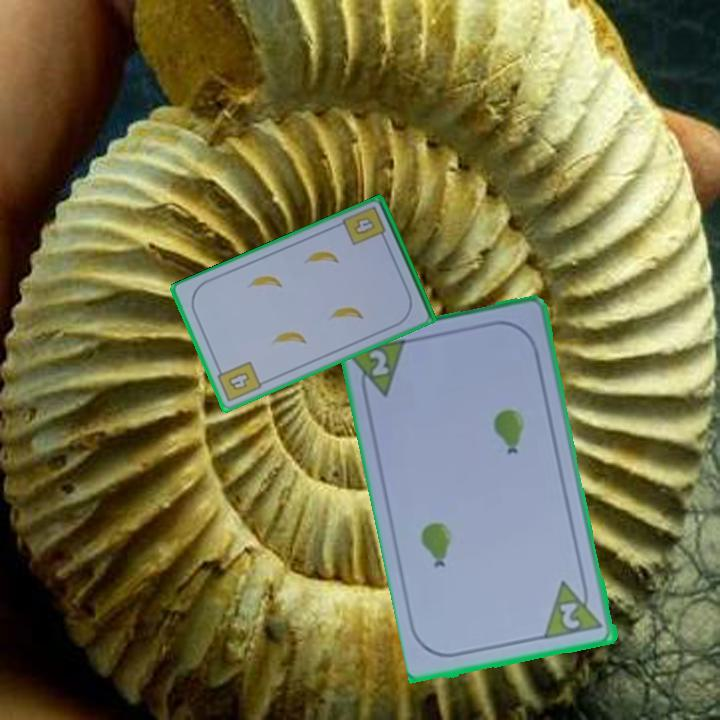2p: (542, 574, 607, 643), (366, 346, 393, 380)
4b: (213, 358, 264, 405), (339, 203, 390, 249)
